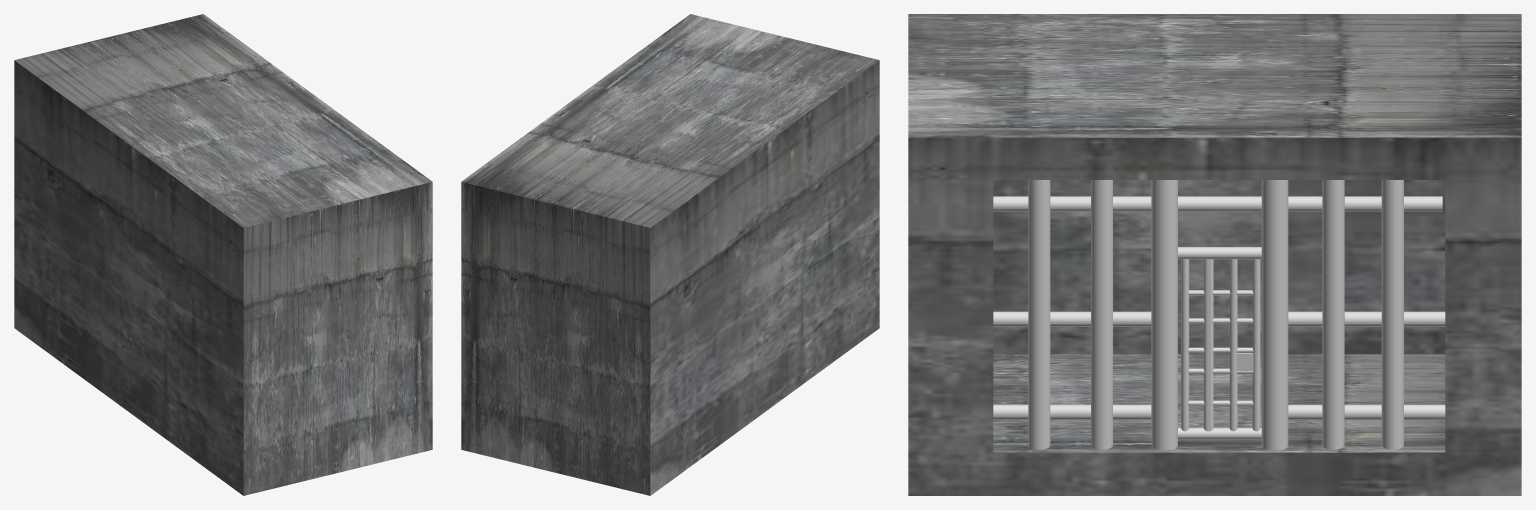
File: cell 1.fbx
The picture shows the model from 3 angles, left to right: view 1: azimuth 30°, elevation 25°; view 2: azimuth 150°, elevation 25°; view 3: azimuth 270°, elevation 25°; orthographic projection. The views are drawn at different scales.
Parts seen in each view (by area): view 1: Cube; view 2: Cube; view 3: Cube, Cylinder.003, Cylinder.002, Cylinder, Cylinder.004, Cylinder.005, Cylinder.001, Cylinder.006, Cylinder.007, Cylinder.022, Cylinder.008, Cylinder.023 (+7 smaller).
Part boxes in pixels (box(x1,y1,x2,y2)): Cube: box(14, 14, 432, 495); Cube: box(461, 14, 879, 495); Cube: box(908, 14, 1521, 495); Cylinder.003: box(1261, 180, 1288, 450); Cylinder.002: box(1151, 180, 1177, 450); Cylinder: box(1028, 180, 1050, 449); Cylinder.004: box(1322, 180, 1344, 449); Cylinder.005: box(1381, 180, 1403, 449); Cylinder.001: box(1091, 180, 1112, 449); Cylinder.006: box(993, 196, 1442, 211); Cylinder.007: box(993, 404, 1151, 419); Cylinder.022: box(993, 311, 1151, 326); Cylinder.008: box(1288, 404, 1445, 419); Cylinder.023: box(1288, 311, 1445, 326).
Size of the model in its own units: 972 by 1316 by 2041.
